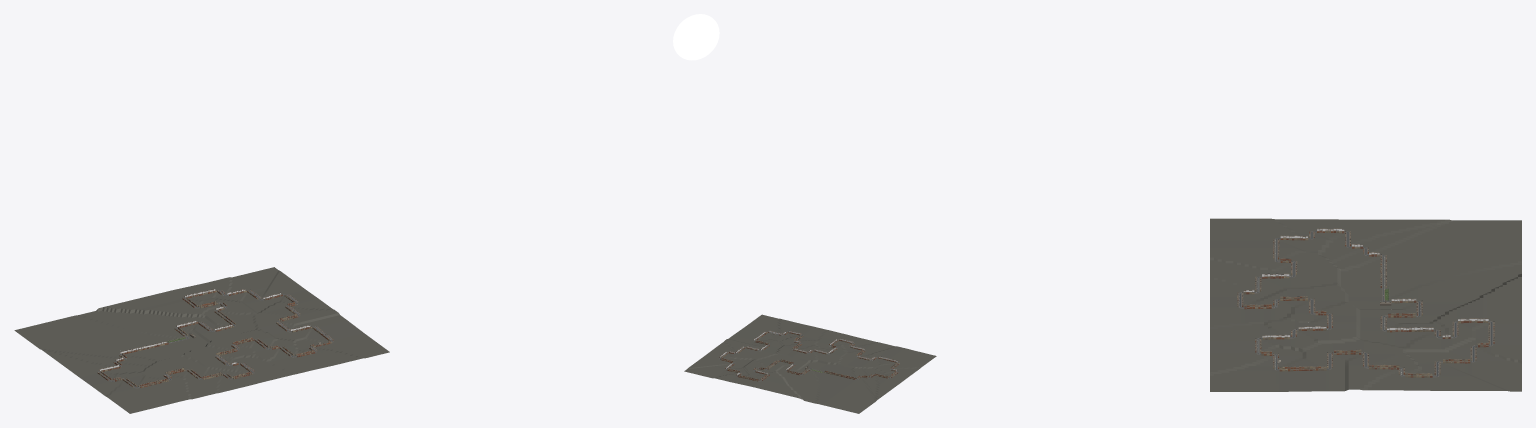
Rendered from glasgow.glb.
The picture shows the model from 3 angles, left to right: view 1: azimuth 30°, elevation 25°; view 2: azimuth 150°, elevation 25°; view 3: azimuth 270°, elevation 25°; orthographic projection. The views are drawn at different scales.
Parts seen in each view (by area): view 1: Land_012, Land_006, Land_000, Land_011, Land_013, Land_002, Land_010, Land_005, Land_003, Land_004, Land_007, Land_009 (+2 smaller); view 2: Land_012, Sun, Land_011, Land_006, Land_000, Land_013, Land_002, Land_004, Land_010, Land_003, Land_005, Land_007 (+3 smaller); view 3: Land_012, Land_006, Land_011, Land_013, Land_000, Land_002, Land_010, Land_003, Land_004, Land_007, Land_005, Land_009 (+2 smaller).
Part boxes in pixels (left/top/right/bottom): Land_012: left=14, top=316, right=156, bottom=382; Land_006: left=293, top=320, right=389, bottom=367; Land_000: left=79, top=308, right=217, bottom=350; Land_011: left=87, top=372, right=191, bottom=413; Land_013: left=74, top=315, right=208, bottom=361; Land_002: left=98, top=287, right=254, bottom=316; Land_010: left=141, top=355, right=221, bottom=399; Land_005: left=252, top=309, right=346, bottom=341; Land_003: left=188, top=267, right=279, bottom=304; Land_004: left=244, top=271, right=332, bottom=315; Land_007: left=242, top=329, right=325, bottom=374; Land_009: left=209, top=356, right=293, bottom=392; Land_012: left=819, top=367, right=907, bottom=413; Sun: left=673, top=14, right=719, bottom=60; Land_011: left=875, top=346, right=936, bottom=377; Land_006: left=733, top=314, right=804, bottom=340; Land_000: left=776, top=361, right=827, bottom=403; Land_013: left=801, top=360, right=855, bottom=403; Land_002: left=742, top=359, right=800, bottom=398; Land_004: left=688, top=342, right=753, bottom=368; Land_010: left=839, top=342, right=894, bottom=368; Land_003: left=684, top=363, right=754, bottom=384; Land_005: left=724, top=335, right=782, bottom=359; Land_007: left=777, top=324, right=826, bottom=355; Land_012: left=1318, top=219, right=1521, bottom=270; Land_006: left=1210, top=346, right=1327, bottom=391; Land_011: left=1210, top=218, right=1329, bottom=261; Land_013: left=1337, top=256, right=1521, bottom=309; Land_000: left=1345, top=263, right=1521, bottom=324; Land_002: left=1406, top=274, right=1521, bottom=350; Land_010: left=1210, top=251, right=1337, bottom=289; Land_003: left=1437, top=330, right=1521, bottom=391; Land_004: left=1364, top=349, right=1506, bottom=390; Land_007: left=1210, top=317, right=1356, bottom=350; Land_005: left=1302, top=338, right=1406, bottom=391; Land_009: left=1210, top=278, right=1294, bottom=327.
Size of the model in its own units: 5856 by 4299 by 4629.
